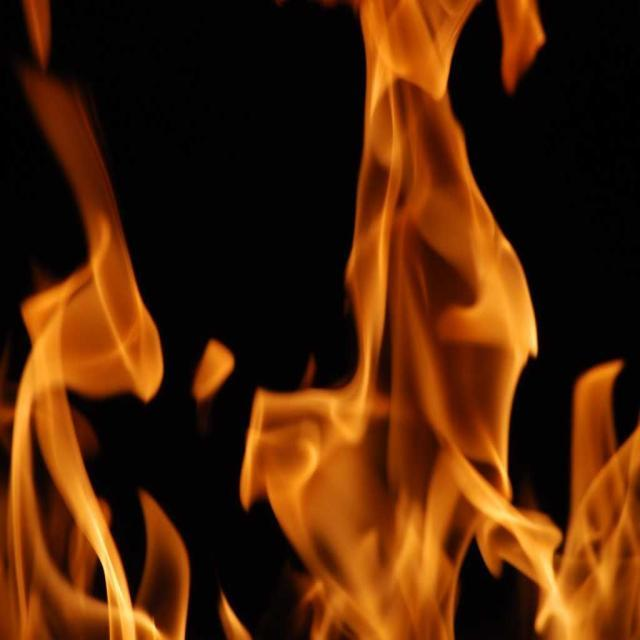Fire: (364, 6, 484, 626), (19, 304, 122, 614), (563, 428, 639, 640)
